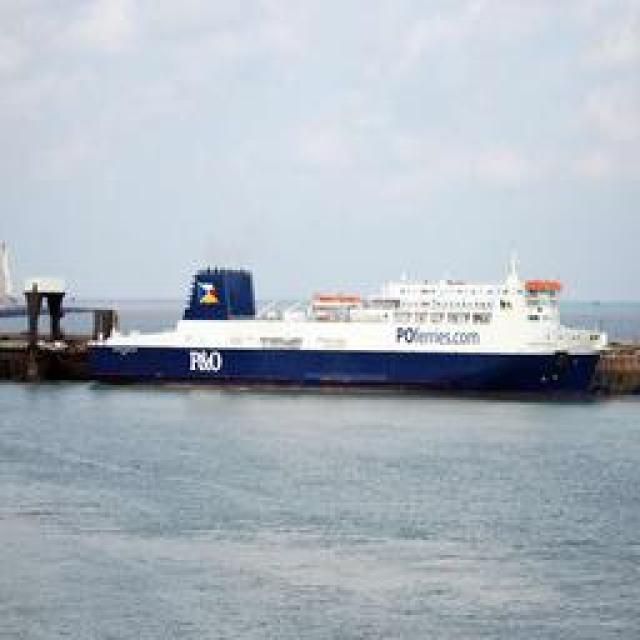CIV_Ship: (65, 252, 605, 392)
